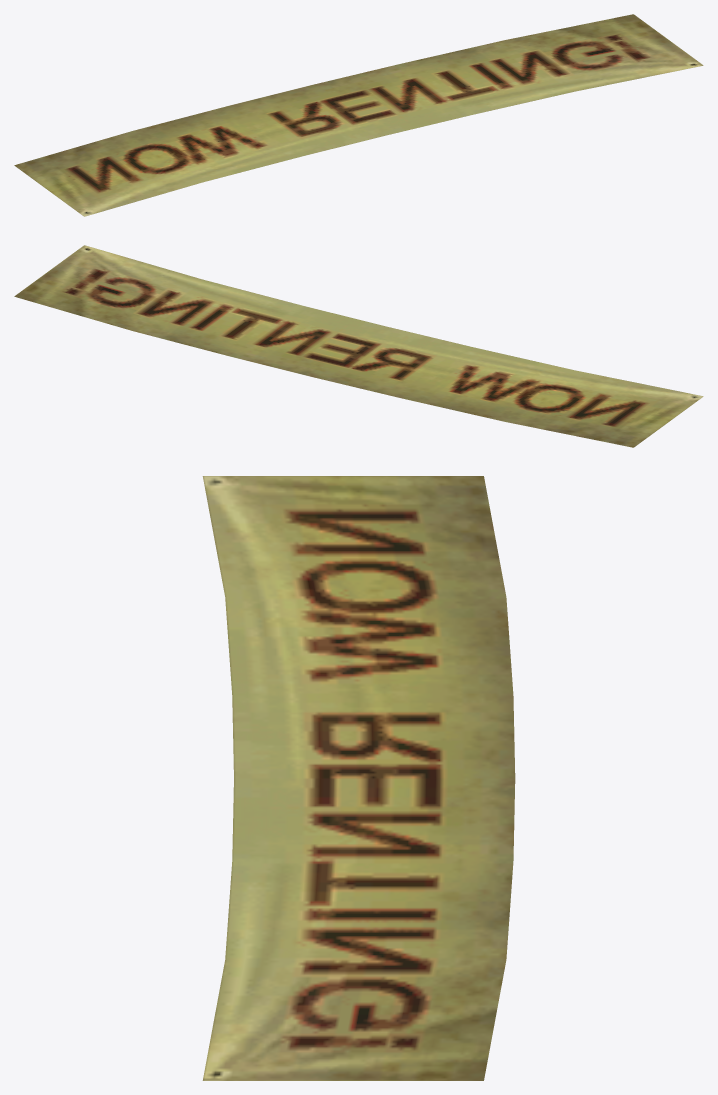
Rendered from banner2.fbx.
The picture shows the model from 3 angles, top to bottom: view 1: azimuth 30°, elevation 25°; view 2: azimuth 150°, elevation 25°; view 3: azimuth 270°, elevation 25°; orthographic projection. The views are drawn at different scales.
Parts seen in each view (by area): view 1: mesh_0; view 2: mesh_0; view 3: mesh_0.
Part boxes in pixels (x1,y1,x2,y2): mesh_0: (14,14,703,216); mesh_0: (14,245,703,447); mesh_0: (202,476,515,1080).
Bounding box in the file's own units: 400 × 0 × 87.36.
Materials: 1 (1 with a texture image).
